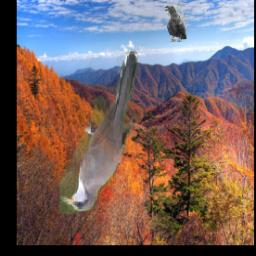Crow: (164, 5, 186, 42)
Cuckoo: (59, 48, 139, 215)
